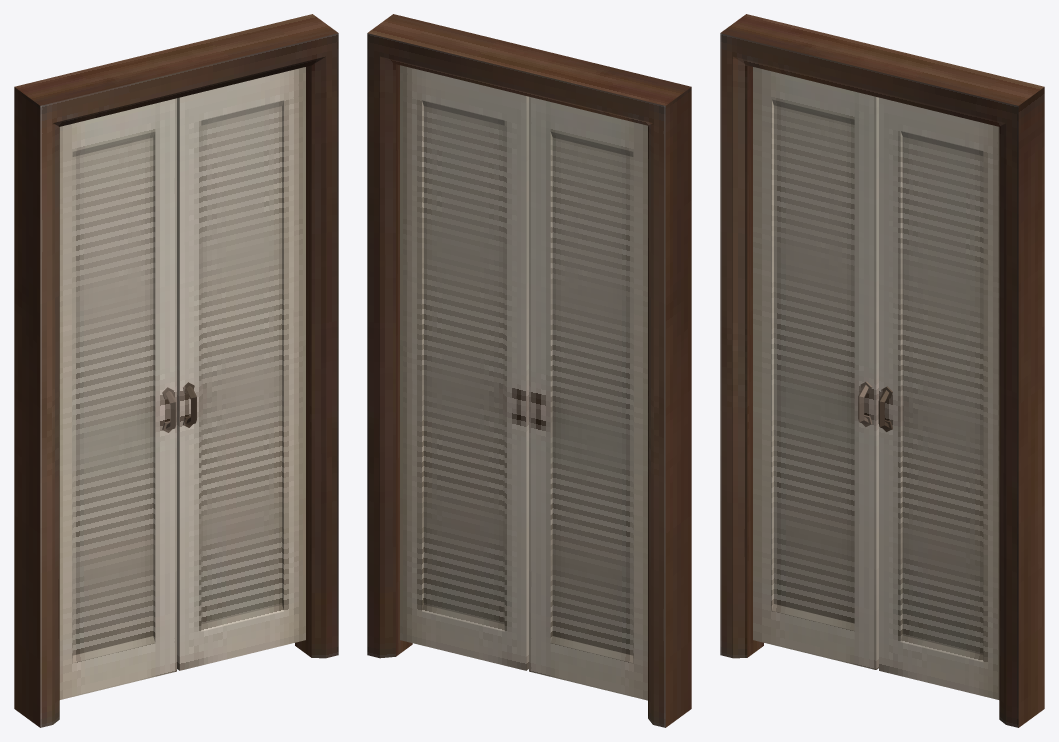
File: door_closet.glb
3 views of the same model, side by side, from view 1: azimuth 30°, elevation 25°; view 2: azimuth 150°, elevation 25°; view 3: azimuth 330°, elevation 25° (orthographic).
Visible parts, largest first — view 1: door_closet; view 2: door_closet; view 3: door_closet.
Boxes of the visible parts, x1,y1,x2,y2 form: door_closet: [14, 14, 338, 727]; door_closet: [367, 14, 691, 727]; door_closet: [720, 14, 1044, 727].
Size of the model in its own units: 1.2 by 2.4 by 0.1823.
Materials: 1 (1 with a texture image).
